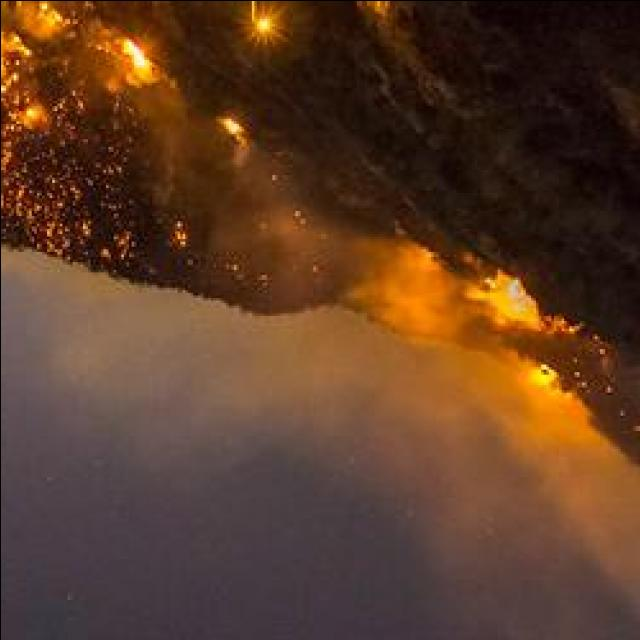fire: (484, 268, 542, 326), (112, 35, 157, 79), (528, 313, 584, 336), (524, 358, 560, 390)
smoke: (412, 448, 502, 582), (341, 251, 458, 345), (0, 4, 50, 37)
